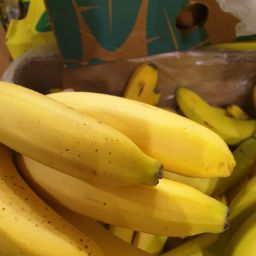Bannana: (2, 69, 249, 256), (113, 61, 256, 231)
